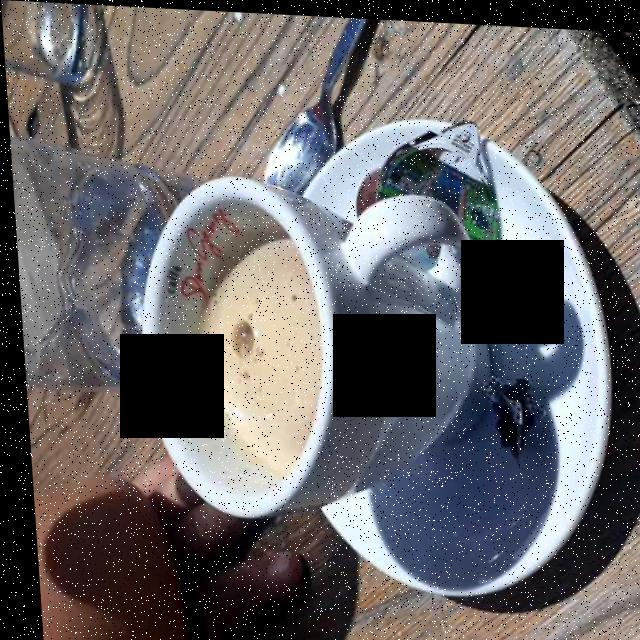espresso-with-caffeine: (190, 238, 315, 471)
